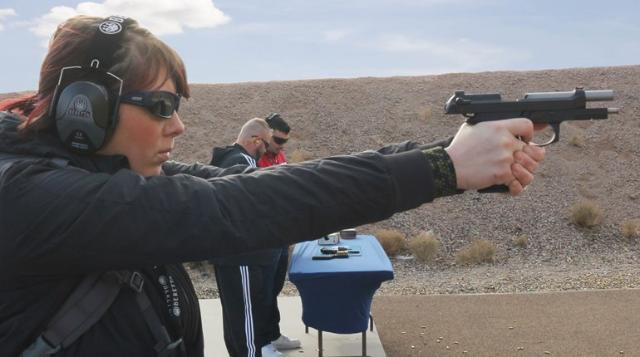handgun: (442, 86, 624, 197)
